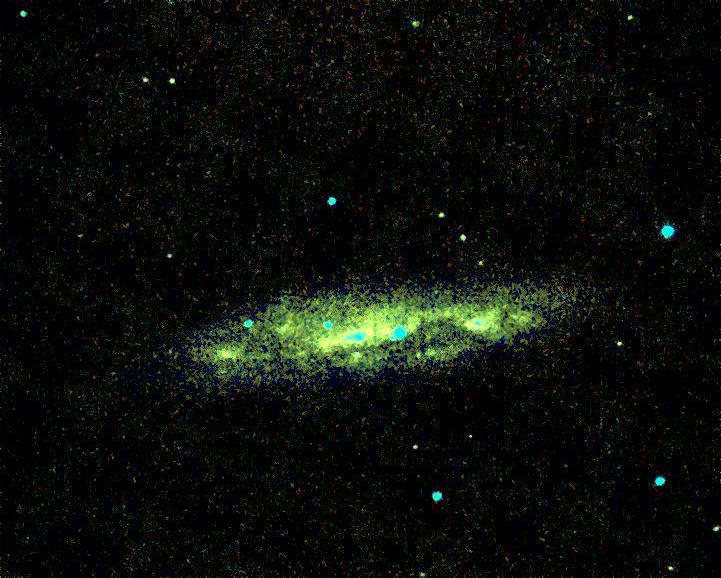star: (454, 417, 484, 447)
